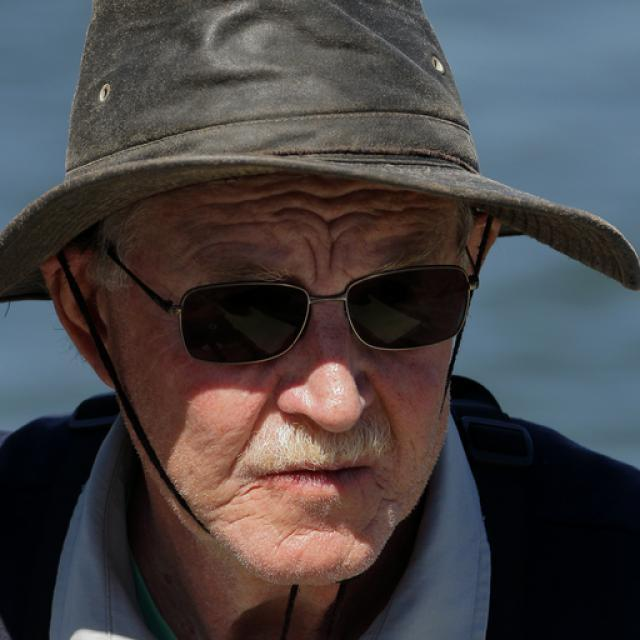disgust: (115, 161, 469, 582)
